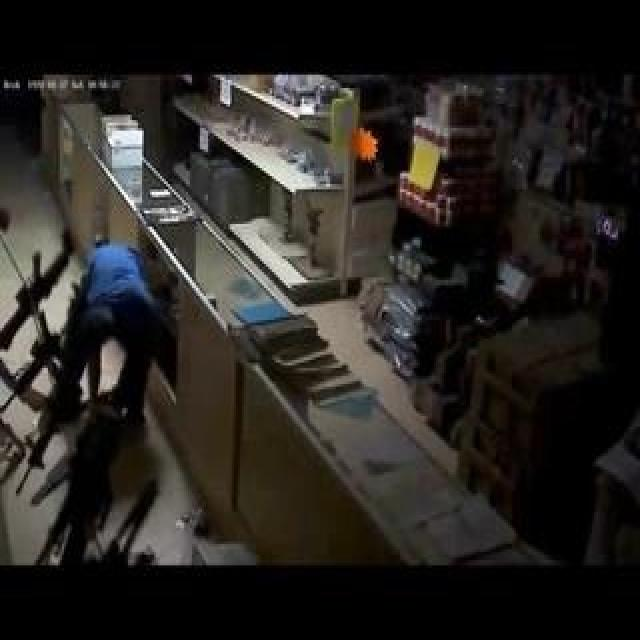thief: (48, 232, 163, 390)
